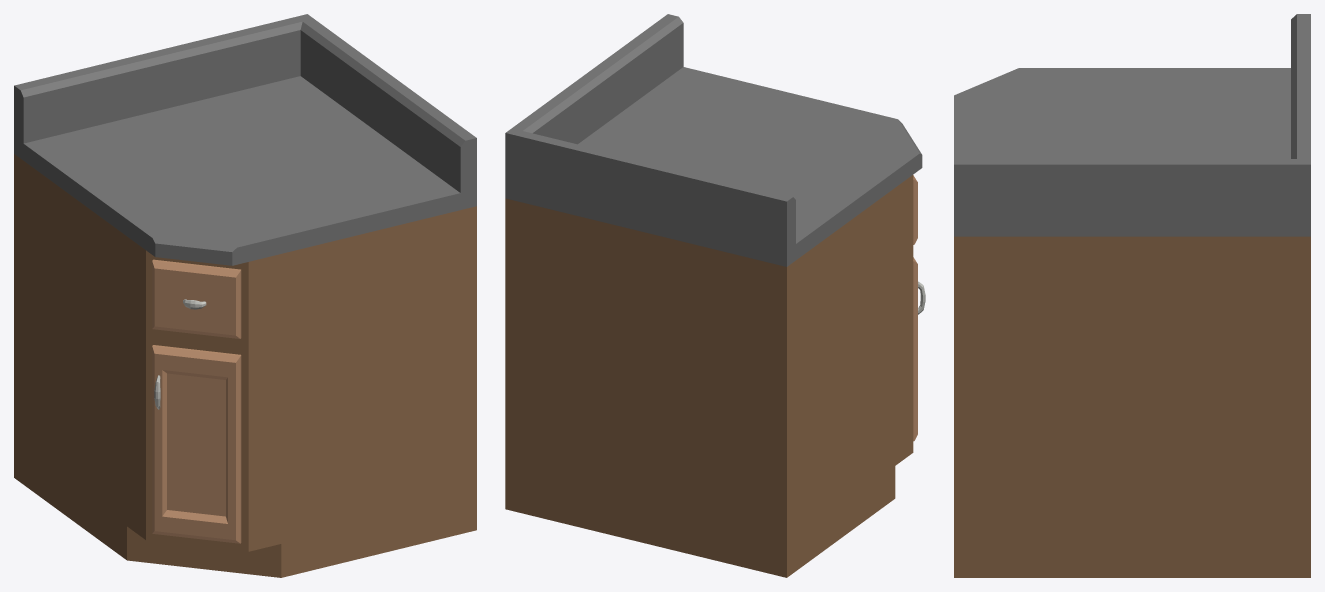
Rendered from Kitchen_Cabinet_Base_Corner.obj.
3 views of the same model, side by side, from view 1: azimuth 30°, elevation 25°; view 2: azimuth 150°, elevation 25°; view 3: azimuth 270°, elevation 25° (orthographic). The views are drawn at different scales.
Visible parts, largest first — view 1: object1, object4, object2, object3; view 2: object1, object4, object2; view 3: object1, object4.
Part boxes in pixels (box(x1,y1,x2,y2)): object1: box(14, 154, 476, 577); object4: box(14, 14, 476, 265); object2: box(152, 345, 241, 543); object3: box(152, 259, 241, 338); object1: box(505, 175, 913, 577); object4: box(505, 14, 922, 266); object2: box(913, 257, 925, 441); object1: box(954, 236, 1310, 577); object4: box(954, 14, 1310, 236).
Bounding box in the file's own units: 0.9053 × 1.15 × 0.9.
